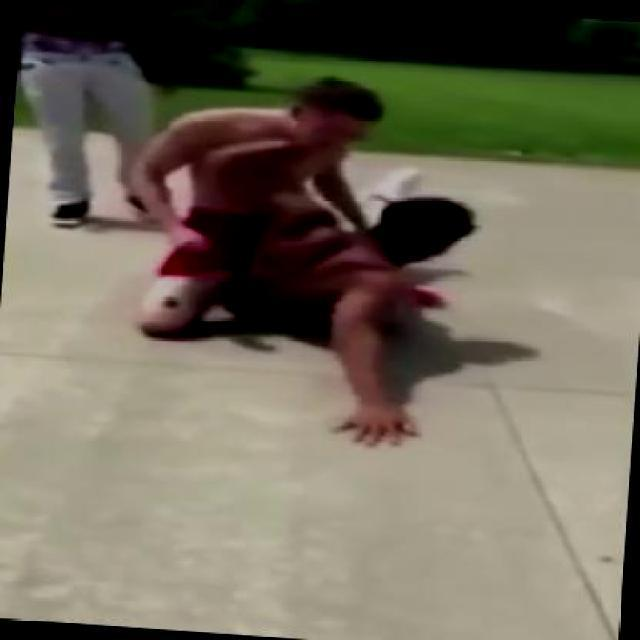fight: (112, 62, 491, 450)
